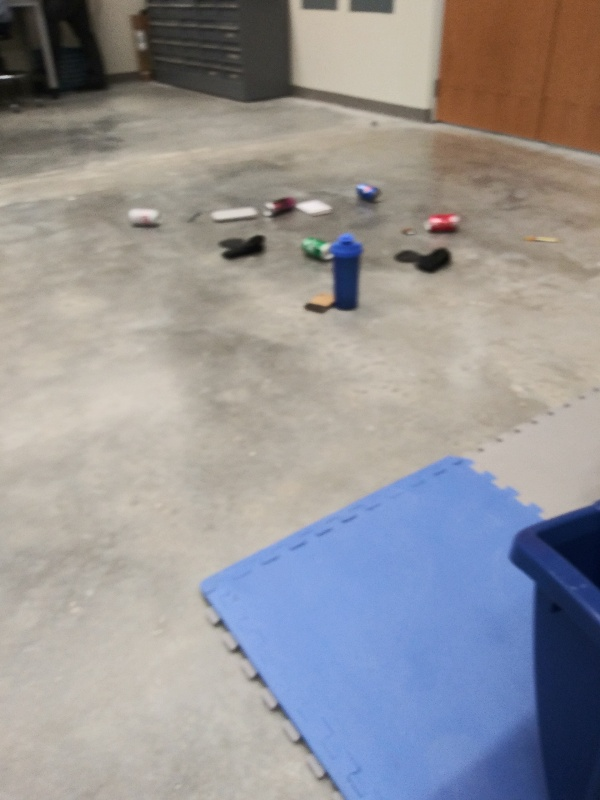can: (421, 210, 464, 235), (260, 193, 299, 219), (125, 203, 162, 228), (297, 236, 332, 261), (353, 181, 385, 204)
